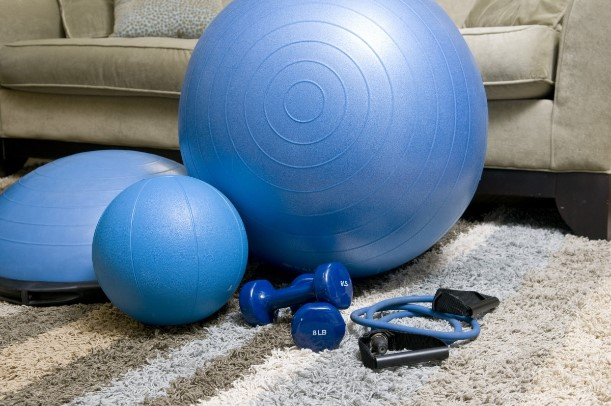blue ball: (176, 1, 490, 279), (92, 174, 249, 326)
